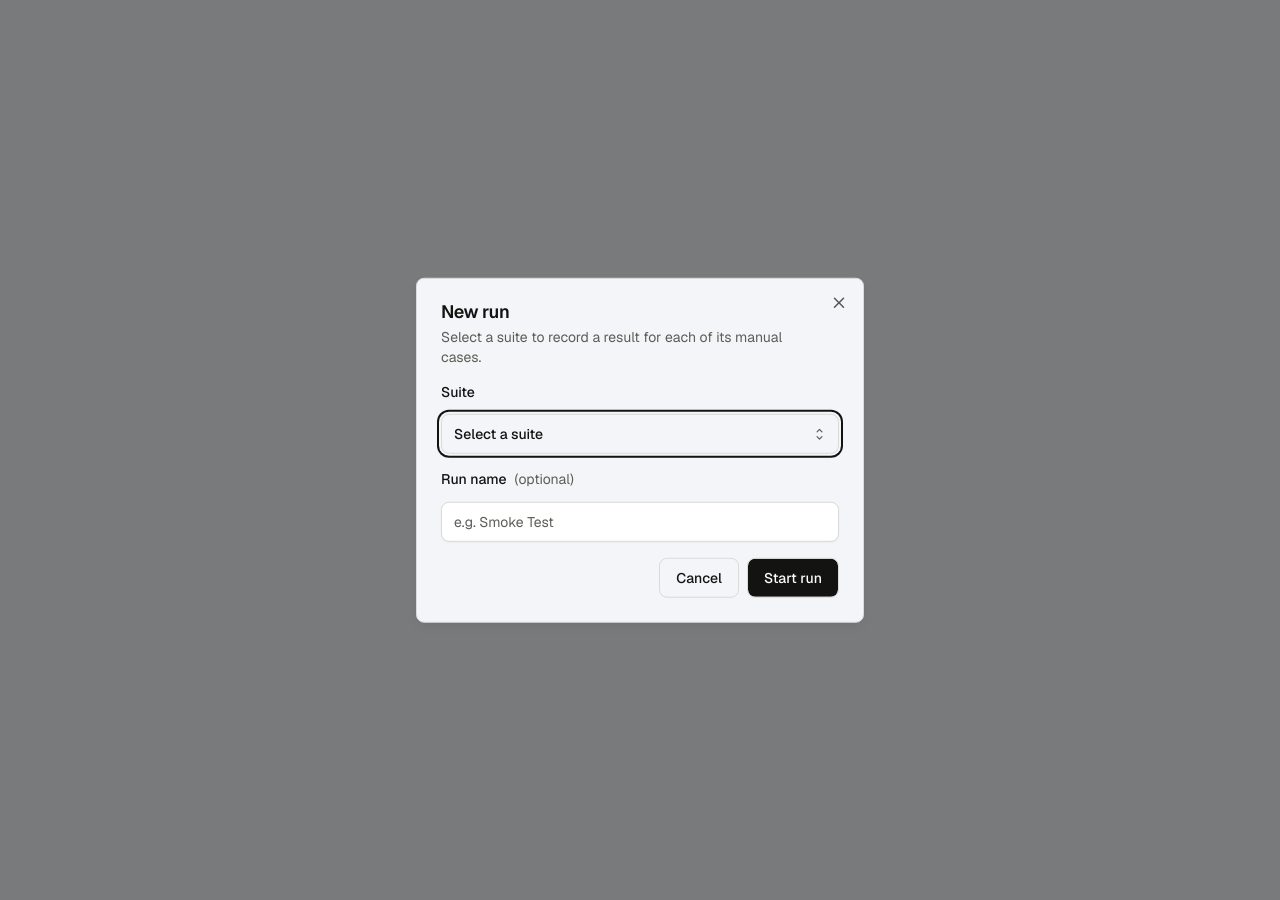
NewRunForm › maps the 409 no-manual-cases error to a dedicated message instead of the generic one
Click the dropdown labelled "suite" at {"x": 499, "y": 434}, box [441,414,839,454]
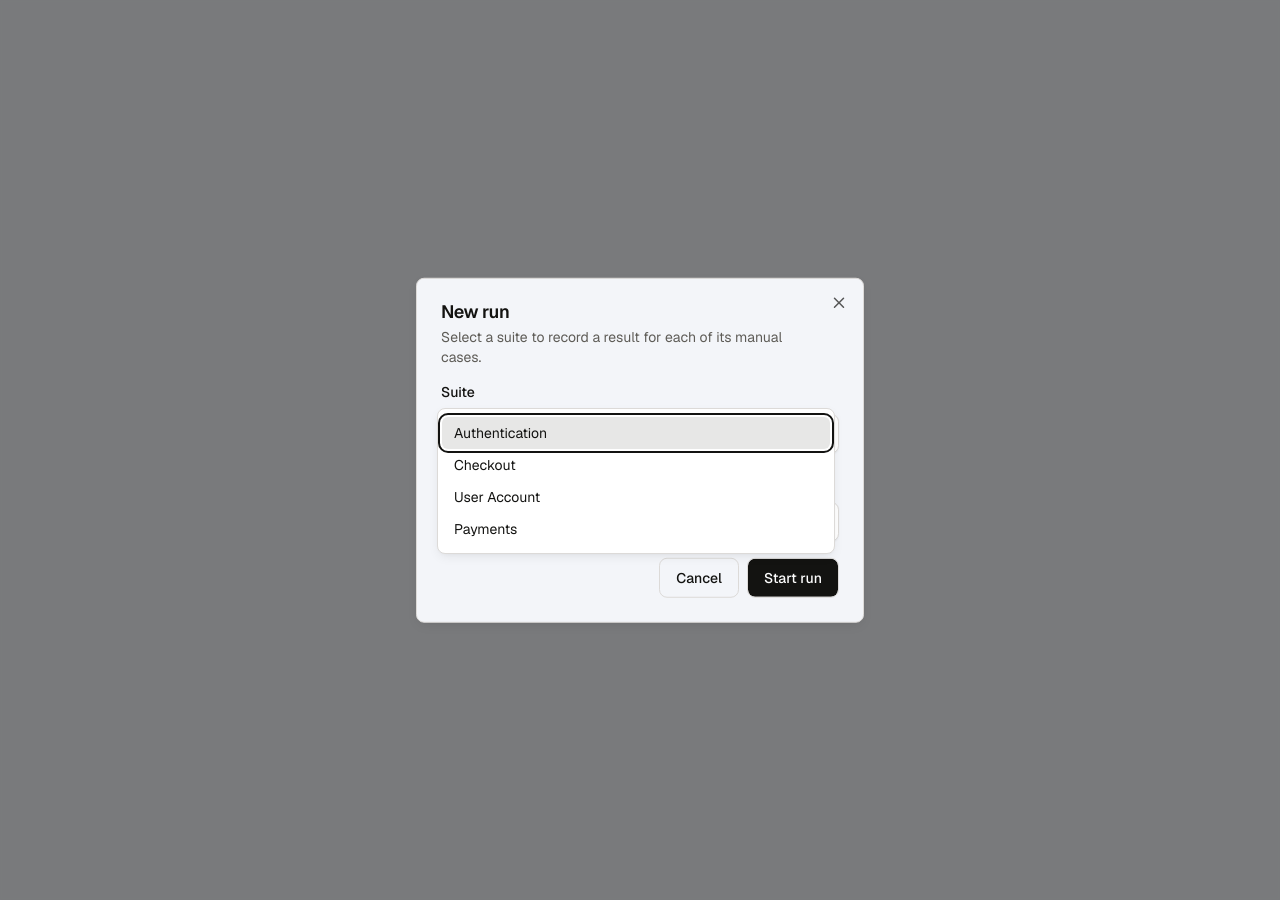
Click the option "Authentication" at {"x": 501, "y": 433}, box [442,417,830,449]
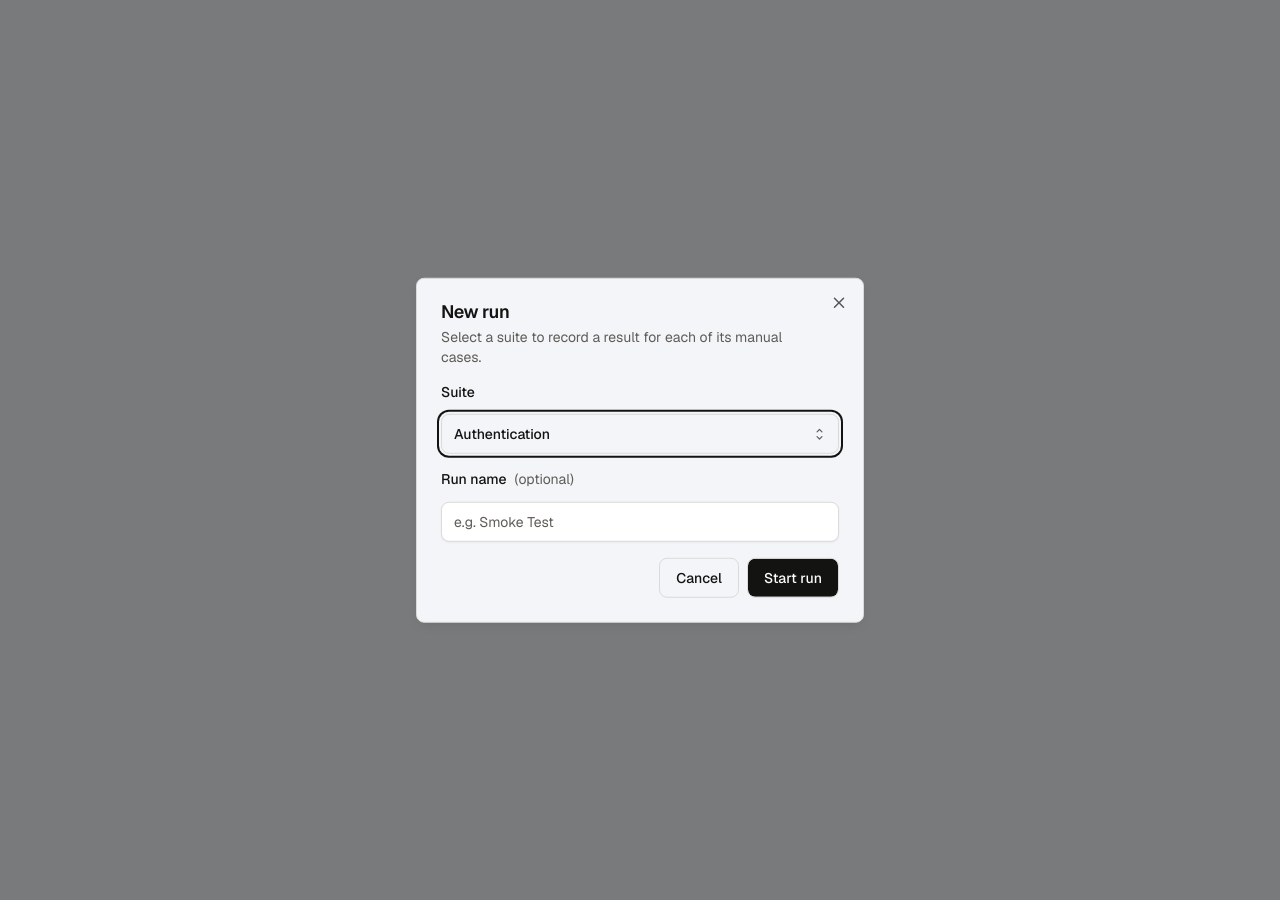
Click the button "Start run" at {"x": 793, "y": 577}, box [747,557,839,597]
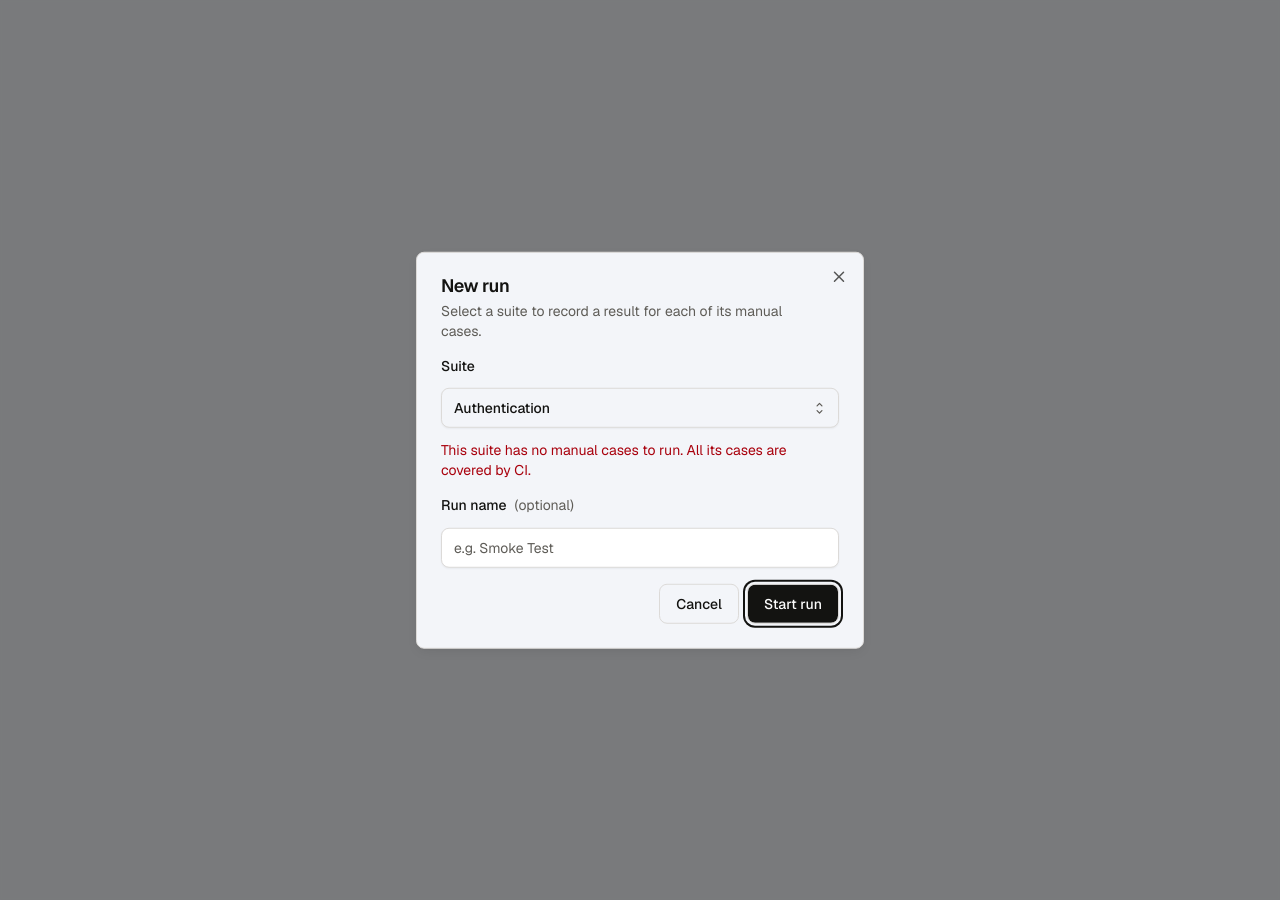
Now the text "This suite has no manual cases to run. All its cases are covered by CI." is shown, box [441,440,839,480]
